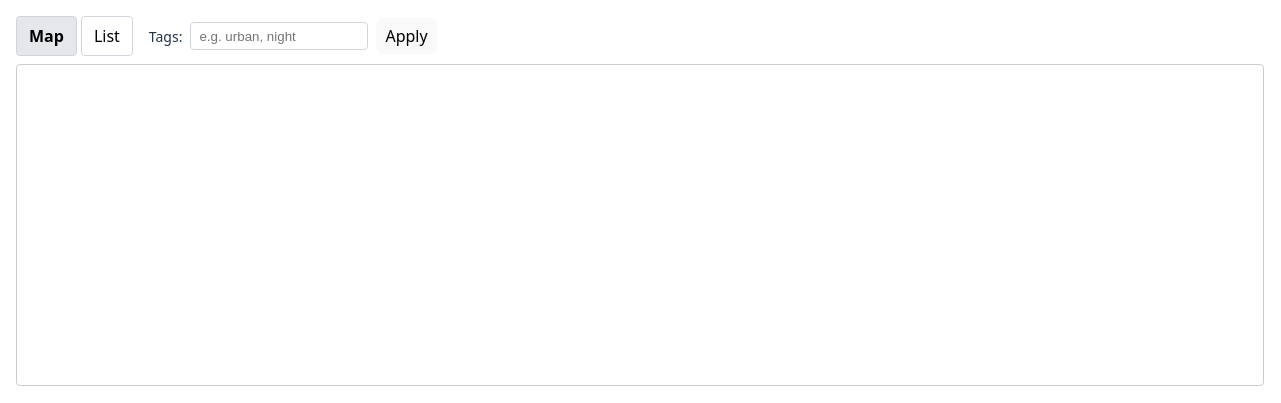
Test: Browse › list view fetches paginated routes and shows pagination
The width and height of the screenshot is (1281, 403).
Click the button "List" at (107, 36), box [81,16,133,56]
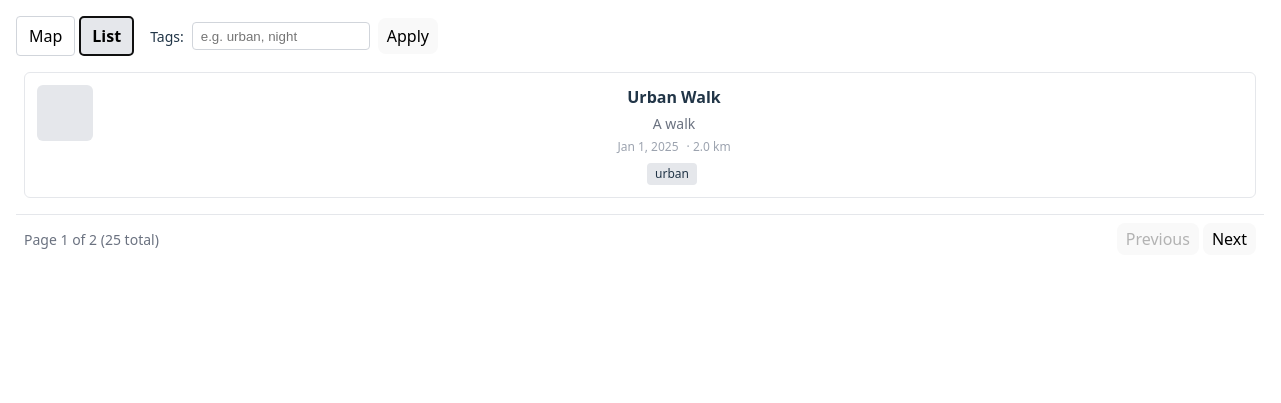
Check: the text "Urban Walk" is shown, box [627,86,721,108]
Check: the text "Page 1 of 2 (25 total)" is shown, box [24,228,159,250]
Check: the button "Next" is shown, box [1203,223,1256,255]
